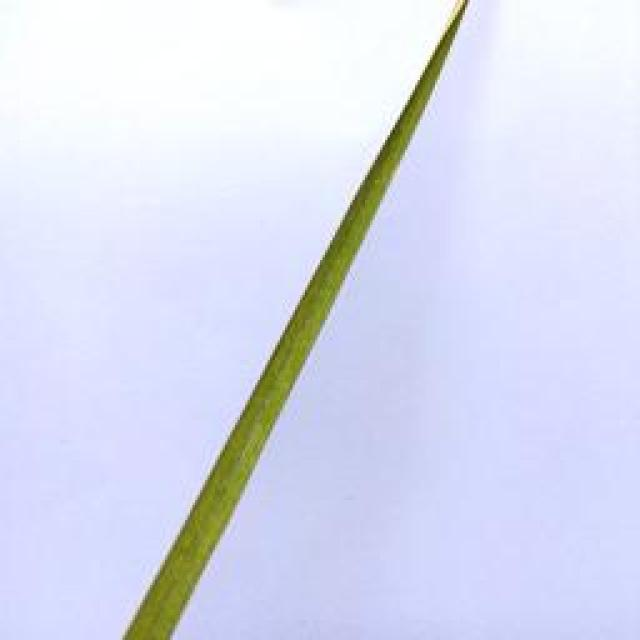Healthy-Plant: (123, 572, 203, 638), (412, 0, 468, 93), (161, 508, 235, 572), (192, 446, 266, 507), (374, 94, 432, 166), (337, 166, 399, 231), (278, 288, 342, 342), (310, 232, 367, 287), (224, 397, 289, 445), (254, 344, 312, 394)
